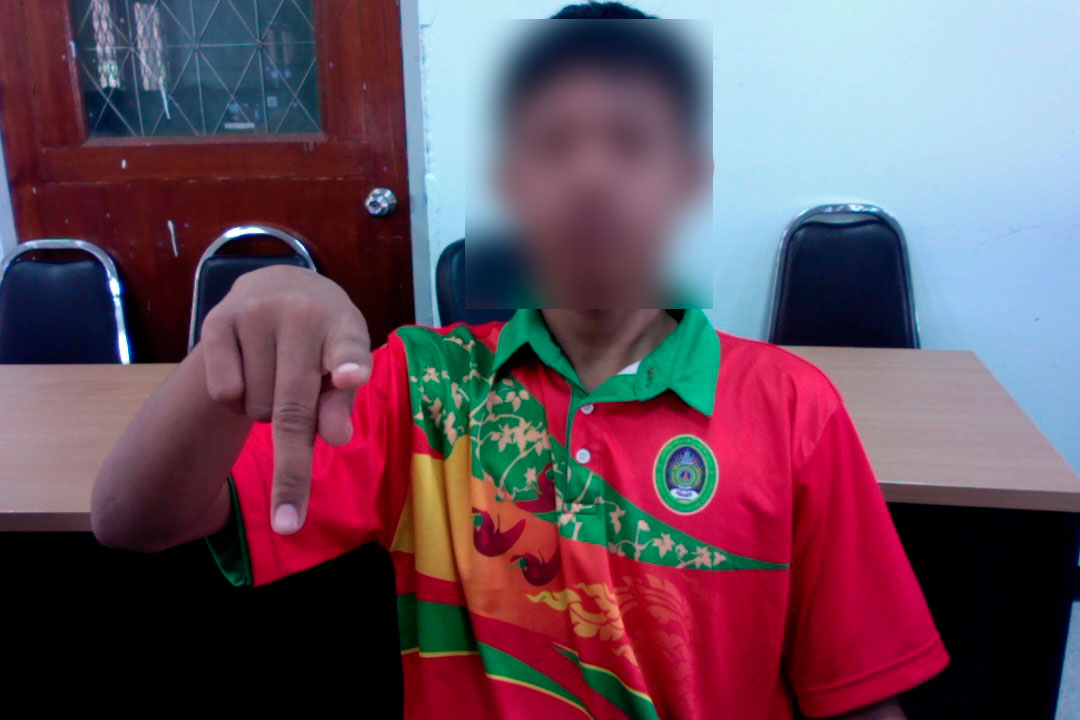por: (192, 250, 386, 539)
